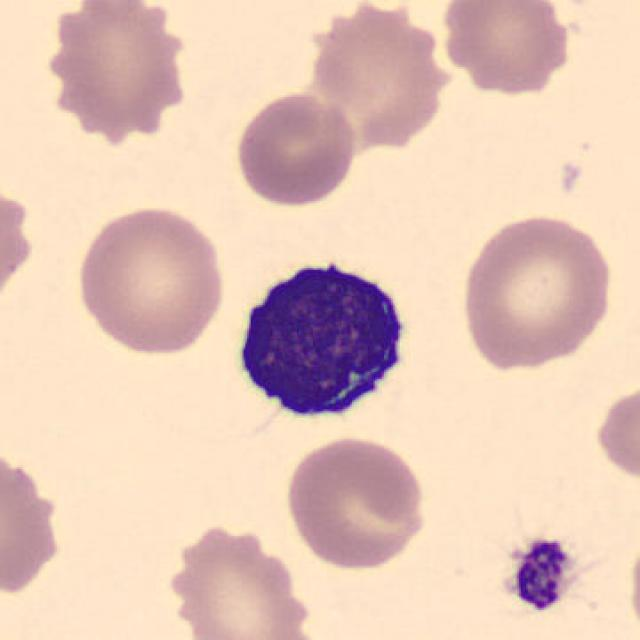Lymphocyte: (223, 245, 422, 434)
Platelets: (505, 534, 576, 614)
RBC: (455, 208, 617, 372), (71, 201, 229, 358), (302, 8, 449, 155), (156, 516, 327, 640), (281, 432, 430, 573), (44, 0, 186, 147), (229, 86, 361, 210), (438, 0, 580, 97), (0, 444, 68, 599), (0, 177, 37, 317), (590, 379, 636, 487), (626, 522, 640, 640)
